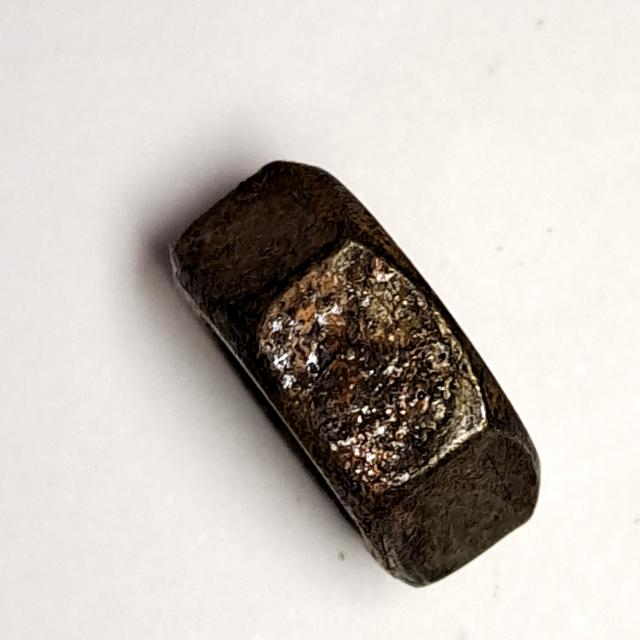Side_Rust: (145, 145, 561, 607)
